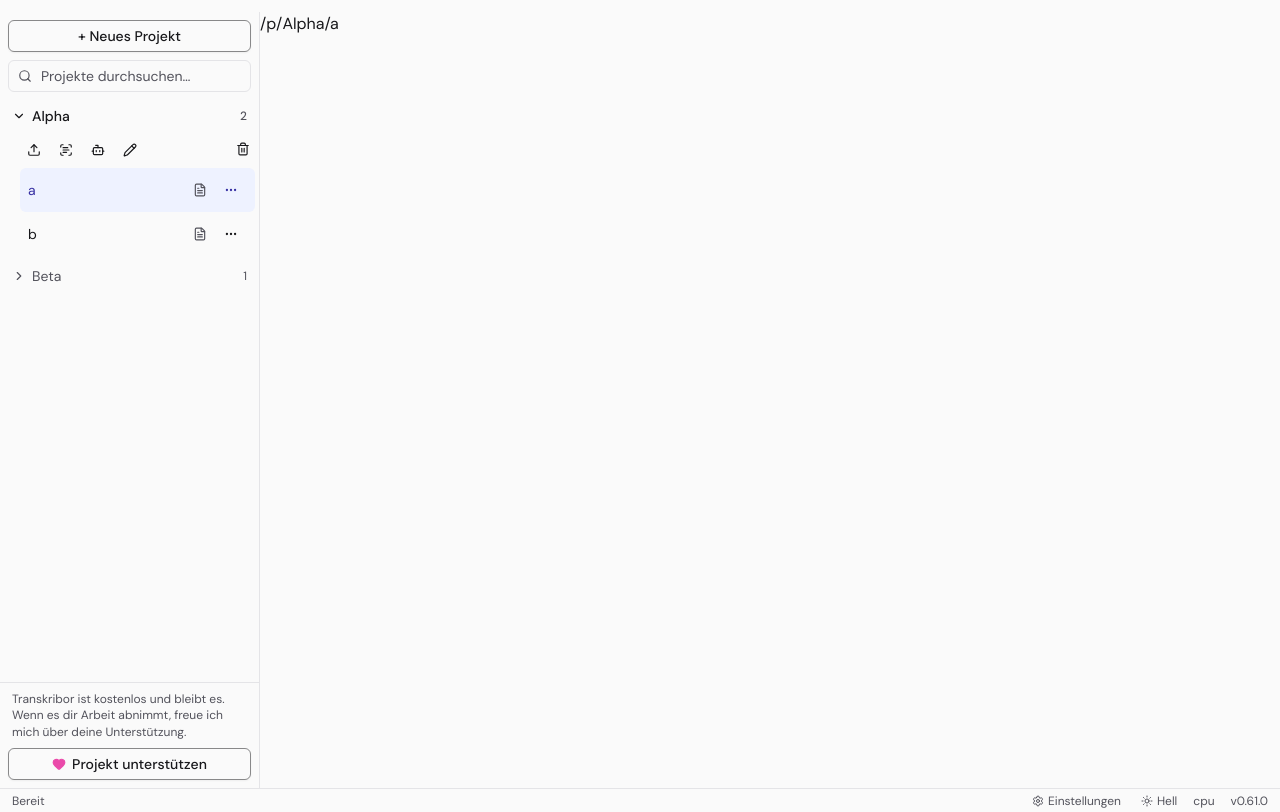
Test: AppShell › ungespeicherte Aenderungen › navigiert nach zugestimmter Rueckfrage
This screenshot has width=1280, height=812.
Click the text "Beta" at (47, 276), box [32,267,61,285]
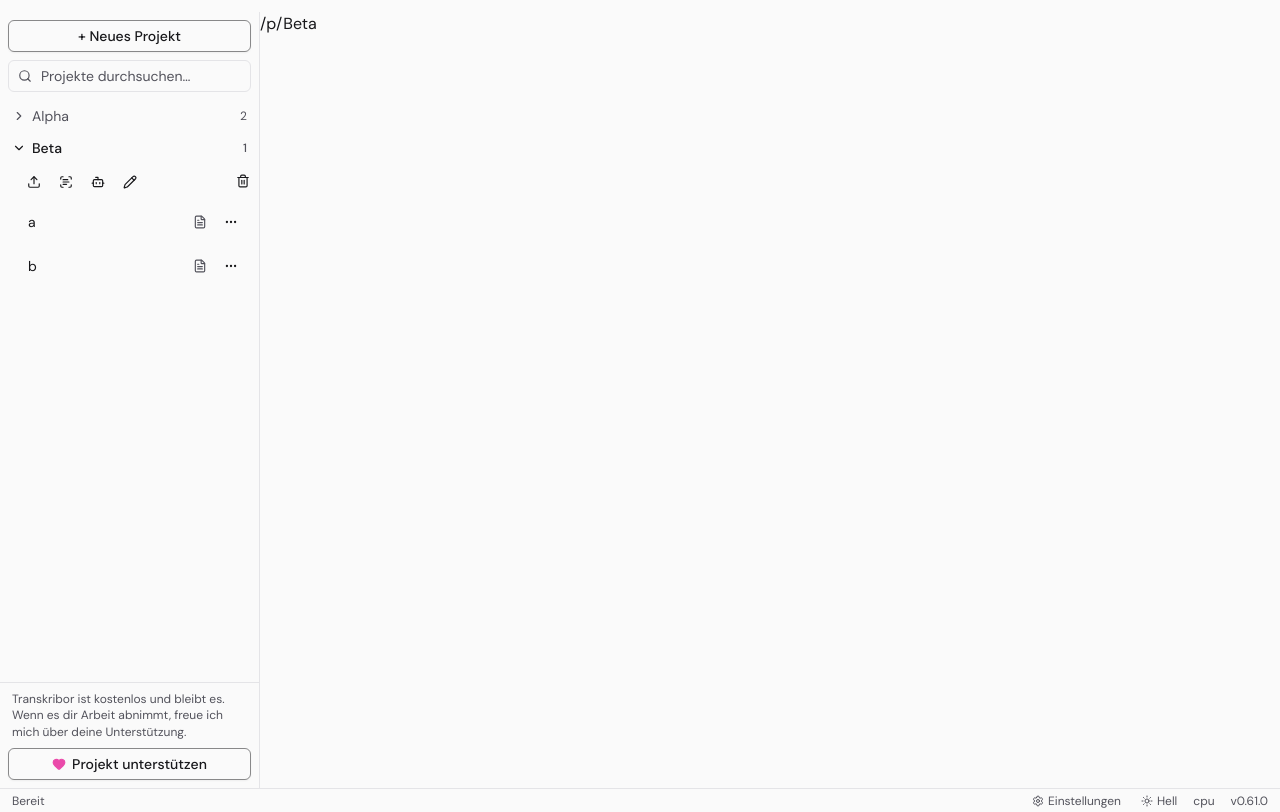
Check: the text with test id "ort" reads "/p/Beta", box [260,13,317,34]
